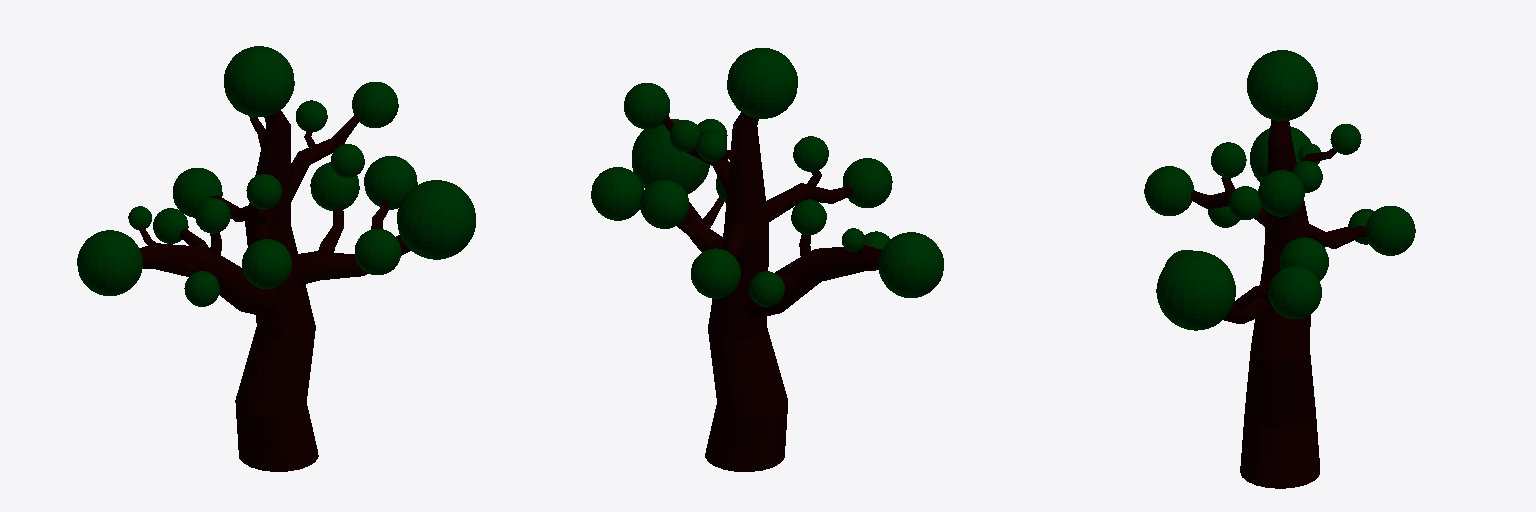
The model's file is tree.obj.
3 renders of one model, left to right at view 1: azimuth 30°, elevation 25°; view 2: azimuth 150°, elevation 25°; view 3: azimuth 270°, elevation 25°, orthographic.
Visible parts, largest first — view 1: pCylinder1, pSphere1, pSphere9, pCylinder2, pSphere17, pSphere2, pSphere12, pCylinder5, pSphere4, pSphere5, pSphere3, pSphere10 (+8 smaller); view 2: pCylinder1, pSphere9, pSphere17, pCylinder2, pSphere1, pSphere2, pSphere10, pSphere3, pSphere12, pSphere5, pCylinder4, pSphere14 (+6 smaller); view 3: pCylinder1, pSphere1, pSphere9, pSphere2, pSphere10, pSphere12, pSphere5, pSphere3, pSphere17, pSphere11, pSphere7, pCylinder6 (+4 smaller).
Part boxes in pixels (left/top/right/bottom): pCylinder1: left=235, top=110, right=318, bottom=471; pSphere1: left=397, top=180, right=475, bottom=259; pSphere9: left=224, top=46, right=294, bottom=116; pCylinder2: left=140, top=243, right=279, bottom=315; pSphere17: left=77, top=230, right=142, bottom=295; pSphere2: left=364, top=156, right=417, bottom=209; pSphere12: left=242, top=239, right=291, bottom=288; pCylinder5: left=296, top=235, right=410, bottom=284; pSphere4: left=355, top=229, right=400, bottom=274; pSphere5: left=352, top=82, right=398, bottom=127; pSphere3: left=310, top=162, right=359, bottom=210; pSphere10: left=173, top=168, right=222, bottom=217; pCylinder1: left=705, top=112, right=787, bottom=471; pSphere9: left=727, top=48, right=797, bottom=118; pSphere17: left=878, top=232, right=943, bottom=297; pCylinder2: left=745, top=245, right=881, bottom=317; pSphere1: left=632, top=119, right=709, bottom=194; pSphere2: left=591, top=167, right=643, bottom=220; pSphere10: left=691, top=248, right=740, bottom=298; pSphere3: left=640, top=180, right=688, bottom=228; pSphere12: left=843, top=158, right=892, bottom=207; pSphere5: left=624, top=83, right=669, bottom=128; pCylinder4: left=766, top=183, right=852, bottom=222; pSphere14: left=749, top=271, right=784, bottom=306; pCylinder1: left=1240, top=120, right=1319, bottom=488; pSphere1: left=1156, top=251, right=1235, bottom=330; pSphere9: left=1247, top=50, right=1317, bottom=120; pSphere2: left=1268, top=266, right=1321, bottom=319; pSphere10: left=1366, top=206, right=1415, bottom=255; pSphere12: left=1144, top=166, right=1194, bottom=215; pSphere5: left=1258, top=170, right=1304, bottom=216; pSphere3: left=1280, top=237, right=1328, bottom=280; pSphere17: left=1250, top=126, right=1311, bottom=182; pSphere11: left=1211, top=142, right=1246, bottom=177; pSphere7: left=1229, top=186, right=1261, bottom=219; pCylinder6: left=1309, top=224, right=1366, bottom=248.
Size of the model in its own units: 9.95 by 11.23 by 6.75.